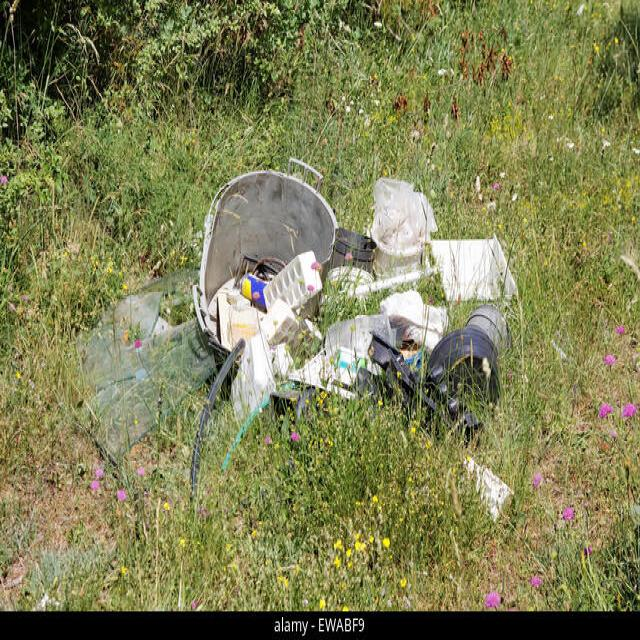plastic: (438, 291, 514, 404)
trash: (169, 163, 424, 407)
